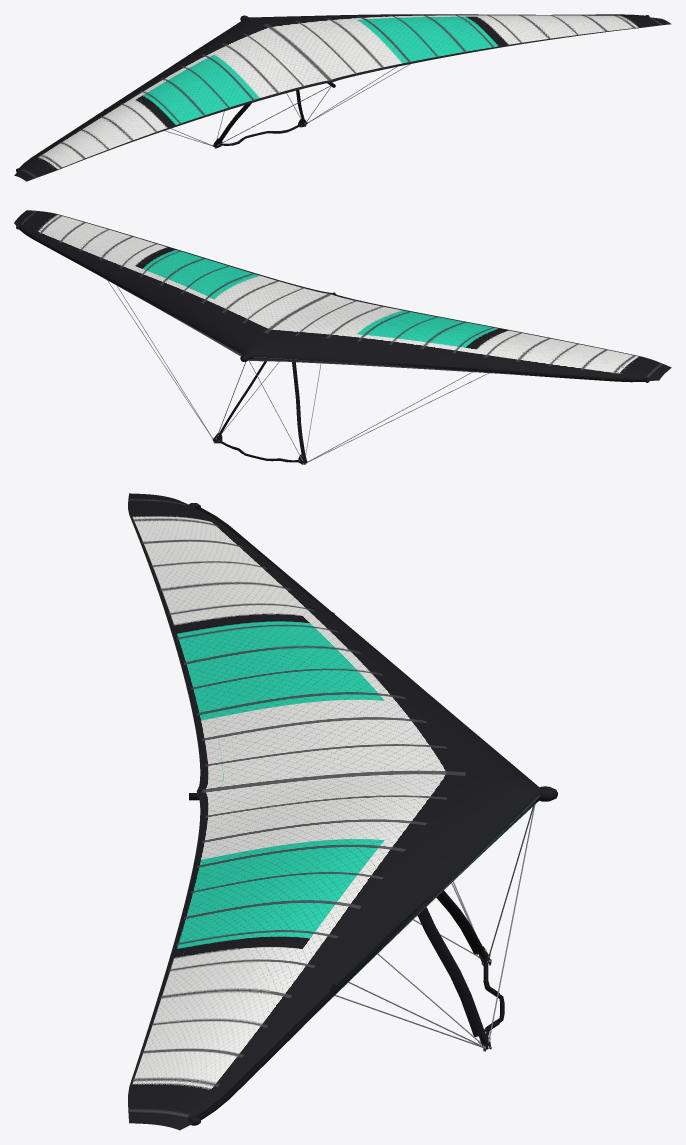
File: glider_air_c4.glb
3 renders of one model, top to bottom at view 1: azimuth 30°, elevation 25°; view 2: azimuth 150°, elevation 25°; view 3: azimuth 270°, elevation 25°, orthographic. The views are drawn at different scales.
Visible parts, largest first — view 1: Sail, ControlFrame, Frame; view 2: Sail, ControlFrame, Frame; view 3: Sail, ControlFrame, Frame.
Part boxes in pixels (x1=…): Sail: x1=14, y1=14, x2=671, y2=181; ControlFrame: x1=164, y1=64, x2=410, y2=148; Frame: x1=16, y1=14, x2=649, y2=171; Sail: x1=14, y1=210, x2=671, y2=380; ControlFrame: x1=107, y1=280, x2=488, y2=464; Frame: x1=16, y1=224, x2=649, y2=382; Sail: x1=128, y1=493, x2=540, y2=1130; ControlFrame: x1=335, y1=804, x2=535, y2=1051; Frame: x1=188, y1=503, x2=557, y2=1125.
Bounding box in the file's own units: 10 × 1.79 × 2.89.
Materials: 8 (1 with a texture image).
